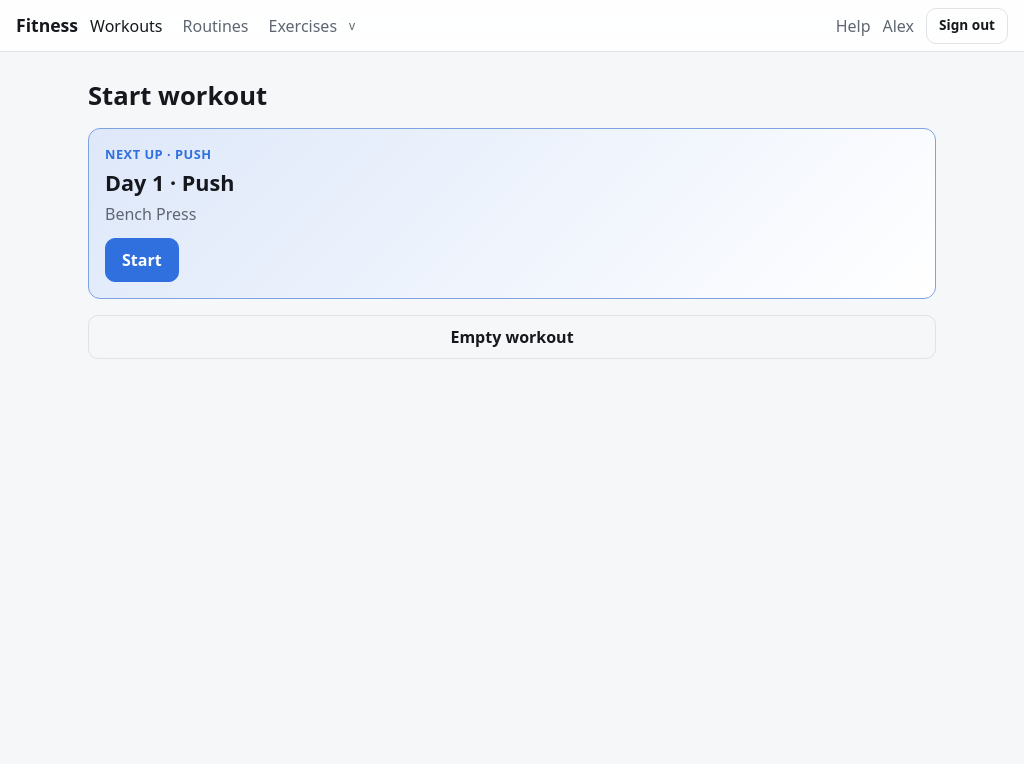
Test case: starting a routine day › starts with the equipment used last time and re-fills the sets when it changes
Step 1. Click the link with aria-label "Start Day 1 · Push of Push" → x=140, y=154, box left=88, top=128, right=936, bottom=299
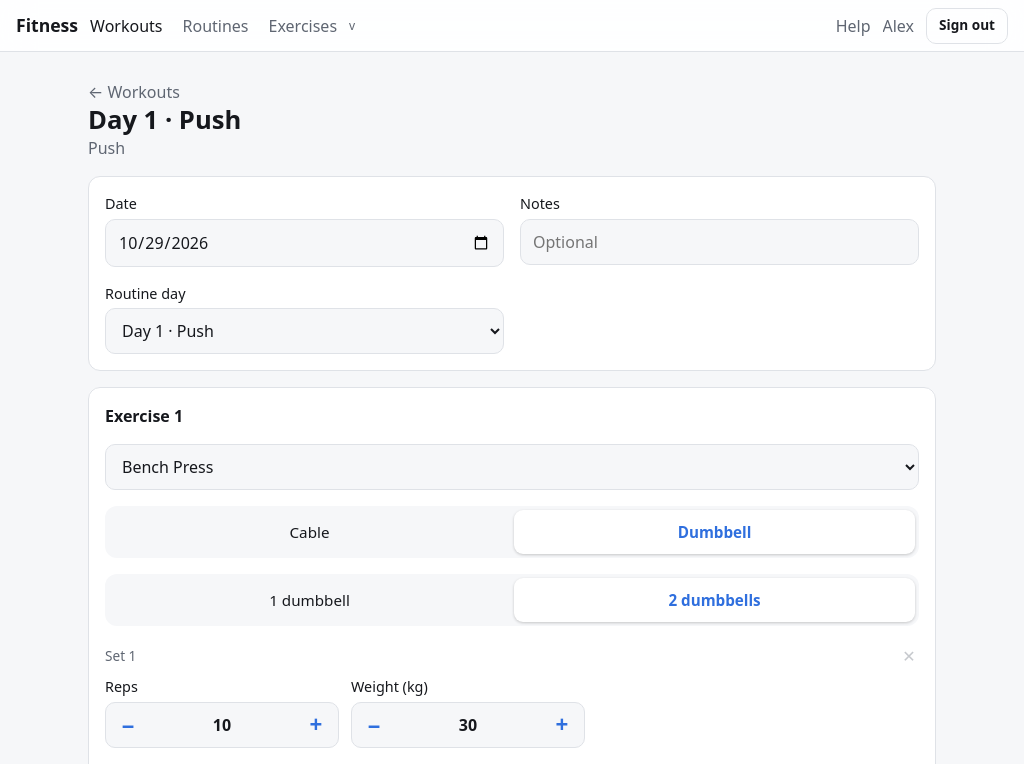
Check: the radio button labelled "Dumbbell" is checked, box left=514, top=510, right=915, bottom=554
Check: the field labelled "Weight (kg)" holds "30", box left=396, top=703, right=540, bottom=747
Check: the field labelled "Reps" holds "10", box left=150, top=703, right=294, bottom=747
Step 2. Click the radio button labelled "Cable" → x=310, y=532, box left=290, top=522, right=330, bottom=542
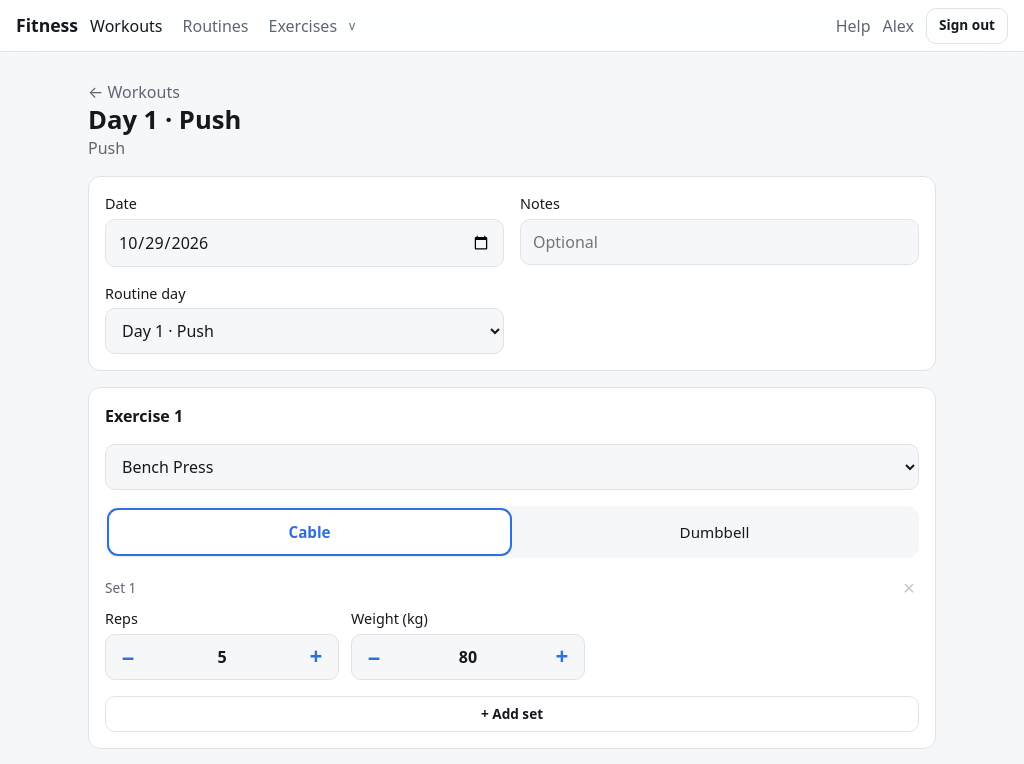
Check: the field labelled "Weight (kg)" holds "80"
Check: the field labelled "Reps" holds "5", box left=150, top=635, right=294, bottom=679
Once typed over, switching keeps what was typed.
Step 3. Replace the text in the field labelled "Weight (kg)" with "85" → x=468, y=657, box left=396, top=635, right=540, bottom=679
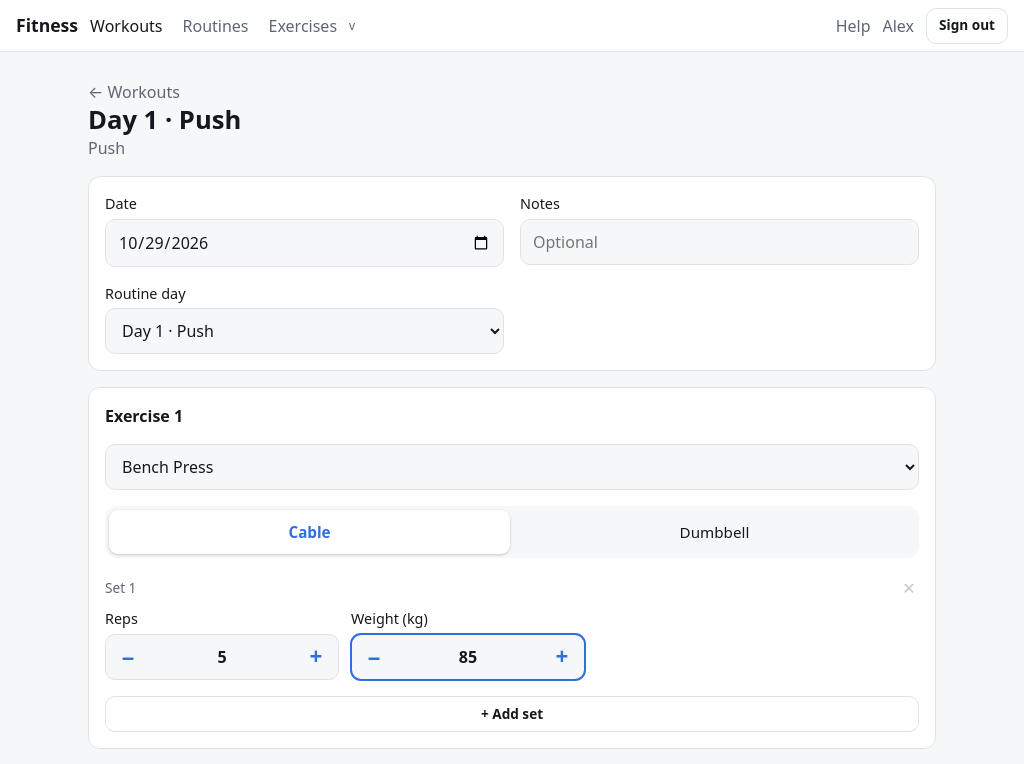
Step 4. Click the radio button labelled "Dumbbell" → x=714, y=532, box left=680, top=522, right=749, bottom=542
(page scrolled)
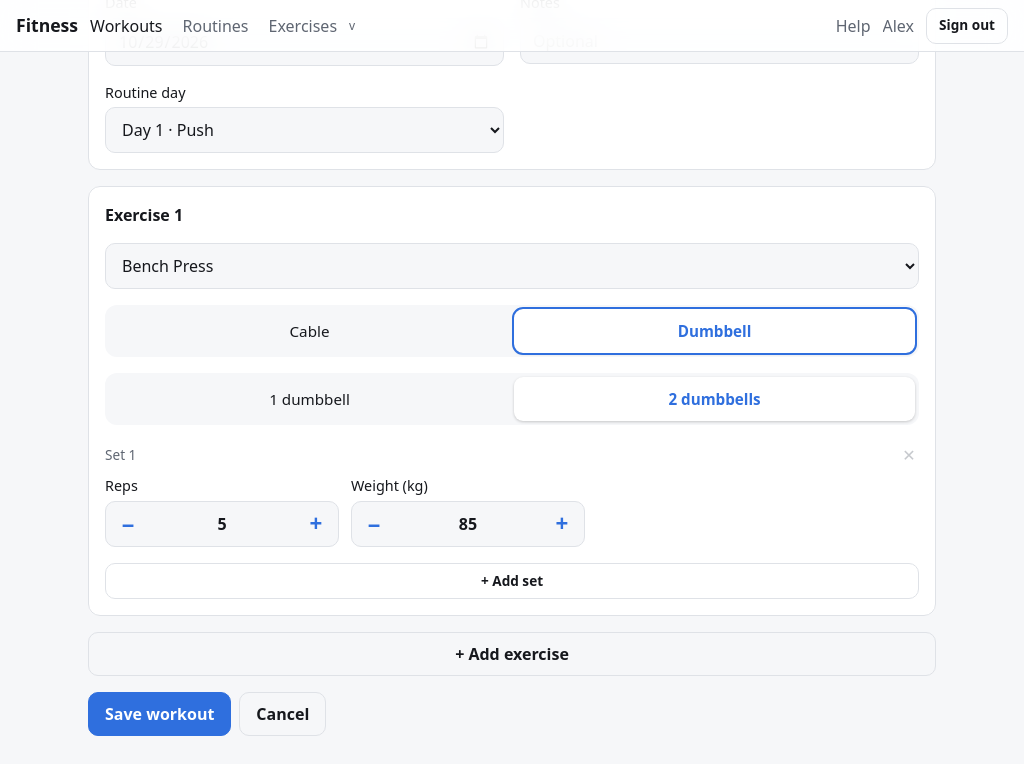
Step 5. Click the button "Save workout" → x=160, y=714, box left=88, top=692, right=231, bottom=736
(page scrolled)
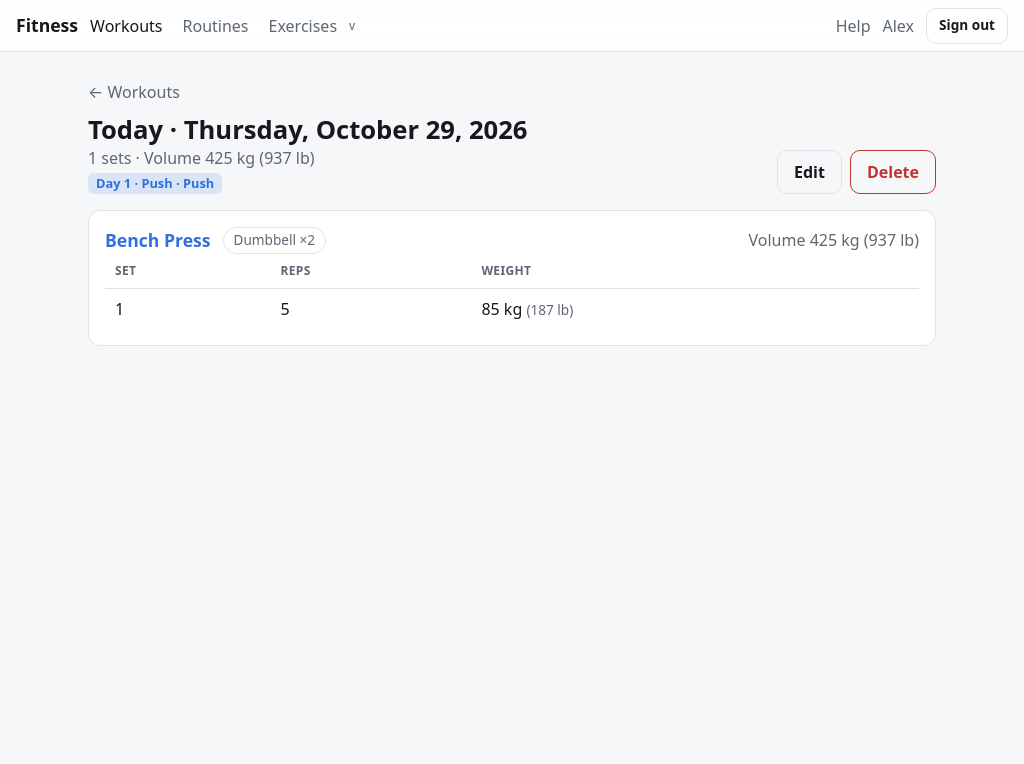
Check: the heading "Bench Press" is shown, box left=105, top=229, right=210, bottom=251
